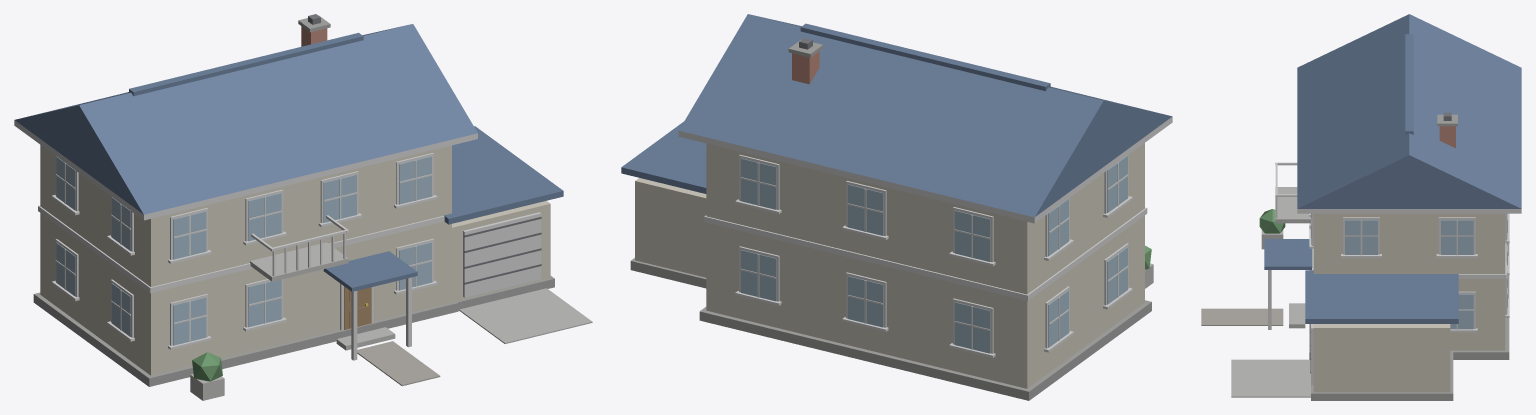
The model's file is Villa_17.glb.
The picture shows the model from 3 angles, left to right: view 1: azimuth 30°, elevation 25°; view 2: azimuth 150°, elevation 25°; view 3: azimuth 270°, elevation 25°; orthographic projection. The views are drawn at different scales.
Parts seen in each view (by area): view 1: Villa_17; view 2: Villa_17; view 3: Villa_17.
Boxes of the visible parts, left/top/right/bottom form: Villa_17: left=14, top=14, right=592, bottom=400; Villa_17: left=621, top=14, right=1172, bottom=400; Villa_17: left=1201, top=14, right=1521, bottom=400.
Size of the model in its own units: 15.5 by 8.8 by 11.7.
